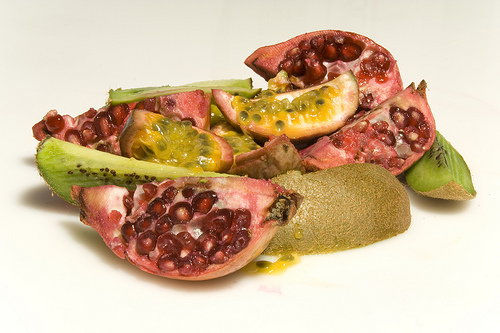pomogranate: (71, 171, 297, 283), (242, 27, 407, 113), (297, 79, 437, 177), (32, 88, 217, 158)
